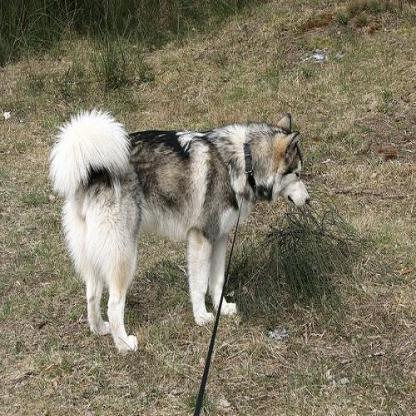malamute: (46, 109, 310, 354)
